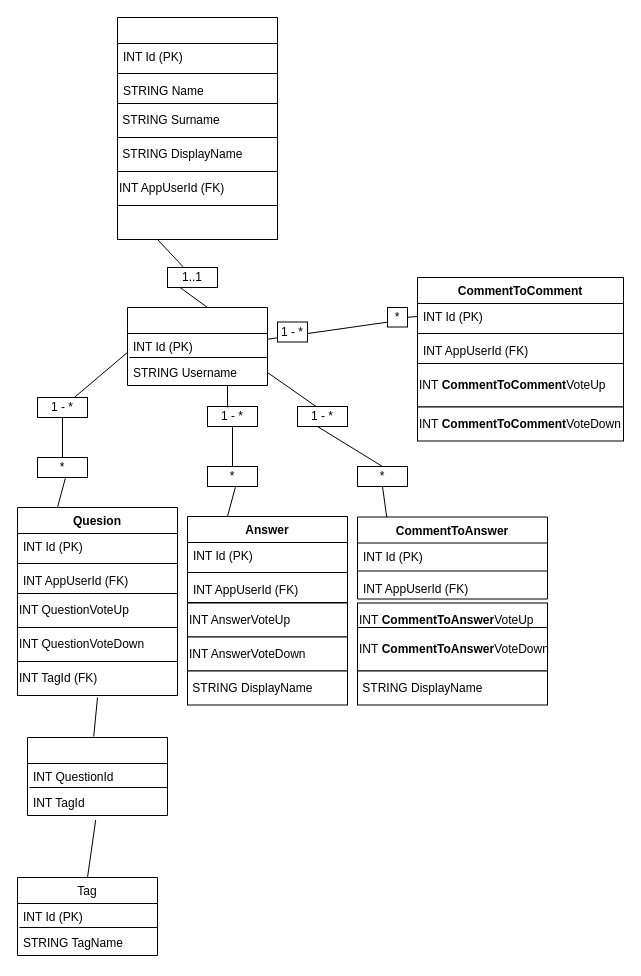
This 641x976 diagram has some shape labels left out. The box of each missing label's shape, as (x1, y1, x2, y2) in pixels:
AppUser: (126, 306, 268, 386)
DATE DateOfRejestration: (116, 204, 278, 240)
QuestionTag: (26, 736, 168, 816)
UserProfile: (116, 16, 278, 104)
